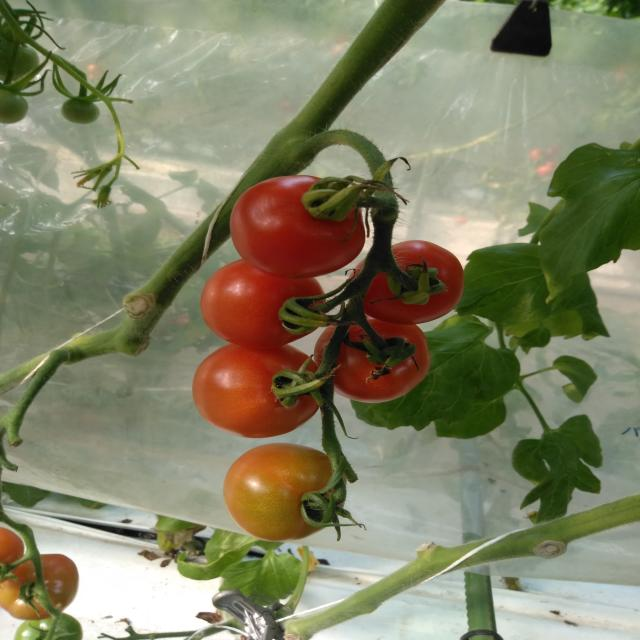c-half-riped: (191, 343, 327, 438), (222, 442, 347, 542), (0, 554, 80, 621), (0, 527, 26, 583)
c-riped: (230, 175, 366, 279), (200, 258, 328, 350), (313, 313, 430, 403), (350, 240, 464, 325)
c-unriped: (13, 612, 83, 640), (0, 37, 40, 83), (0, 88, 30, 124), (60, 98, 100, 124)
